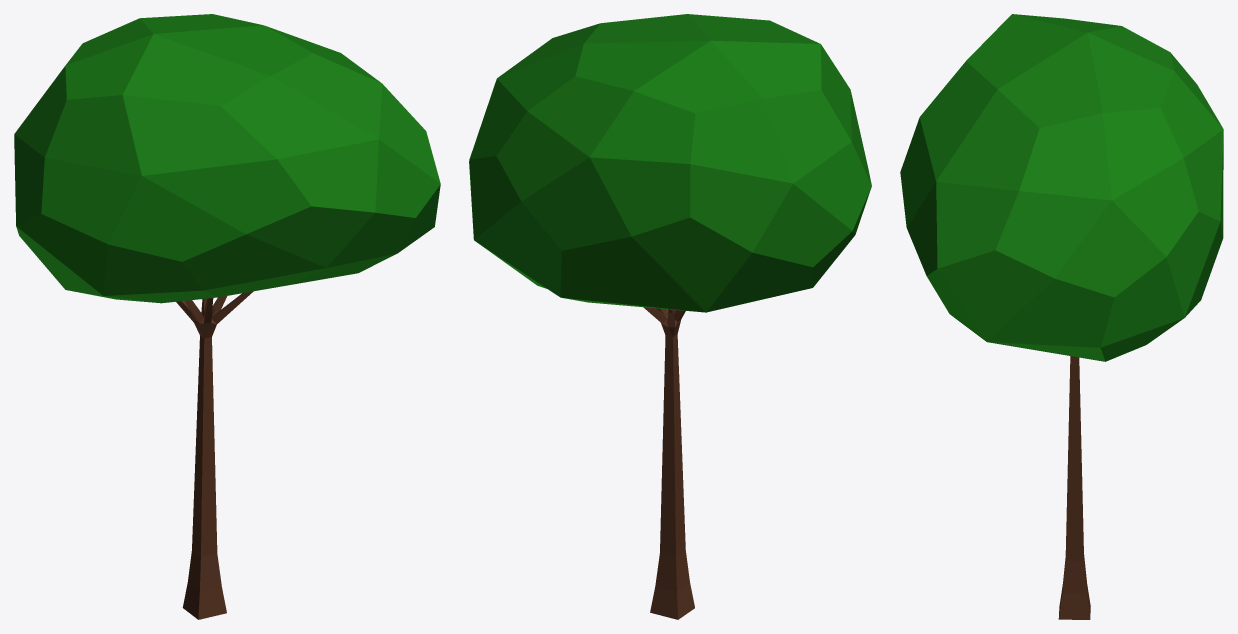
Rendered from arvore3.fbx.
3 renders of one model, left to right at view 1: azimuth 30°, elevation 25°; view 2: azimuth 150°, elevation 25°; view 3: azimuth 270°, elevation 25°, orthographic. The views are drawn at different scales.
Parts seen in each view (by area): view 1: Icosphere.008, Cube.002; view 2: Icosphere.008, Cube.002; view 3: Icosphere.008, Cube.002.
Part boxes in pixels (x1,y1,x2,y2): Icosphere.008: (14,14,440,303); Cube.002: (176,291,253,619); Icosphere.008: (469,14,871,312); Cube.002: (643,307,694,619); Icosphere.008: (900,14,1223,361); Cube.002: (1058,356,1090,619).
Size of the model in its own units: 450 by 670 by 351.
